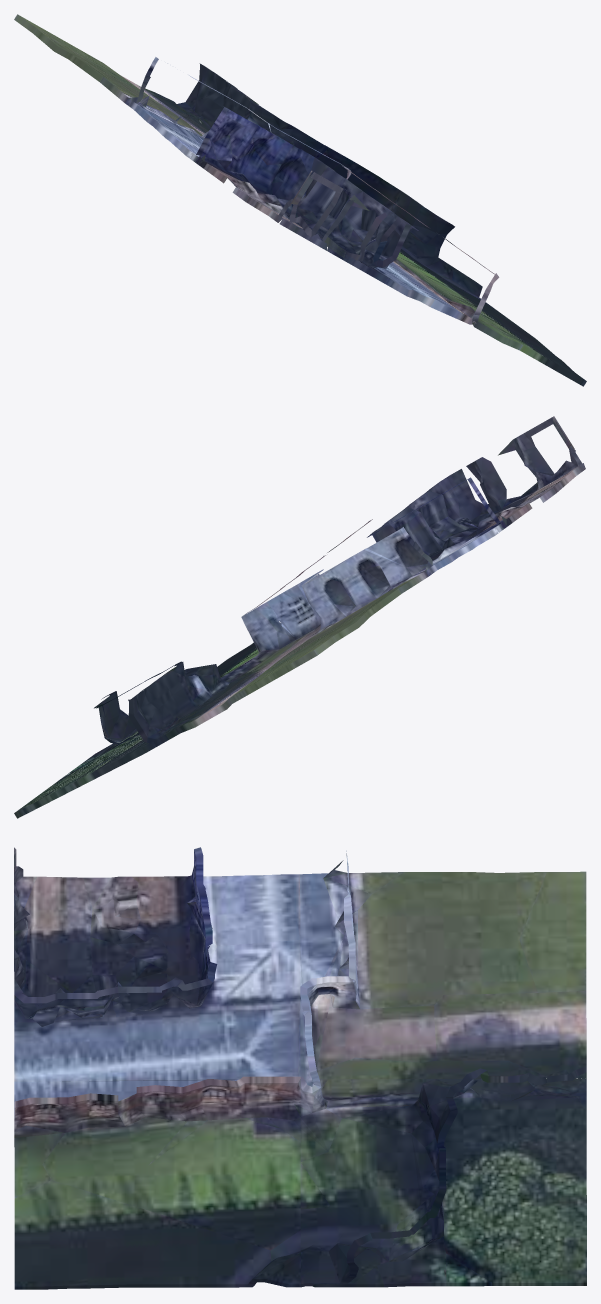
Rendered from AJVsH2ye3CMcxq61fIRhY3Q43pYKgy7UvAPpnZJTWeSo0uLG9wPxnl3AIr_L3sdPtSmO2gy2ObfN4TQQZDQBvmek6eEGLVXDUQJtpxjS0Mq0syRAIihUmCwy__NLNCWpggNfratS0P_3FrTEpy5SmaTEcGge3oFRLlDCY7UwfU7TBnL4qNWfAIOYXHgANjXyjg.glb.
3 views of the same model, one above another, from view 1: azimuth 30°, elevation 25°; view 2: azimuth 150°, elevation 25°; view 3: azimuth 270°, elevation 25° (orthographic). The views are drawn at different scales.
Size of the model in its own units: 33.74 by 27.26 by 47.03.
1 material, 1 textured.
